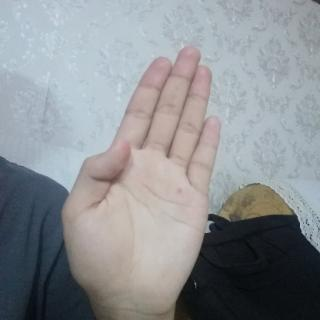SEEN: (56, 40, 230, 320)
